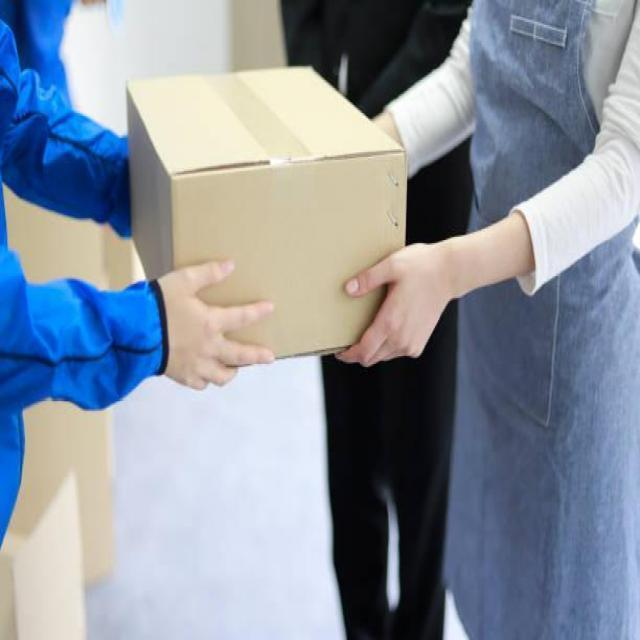box: (120, 57, 411, 366)
